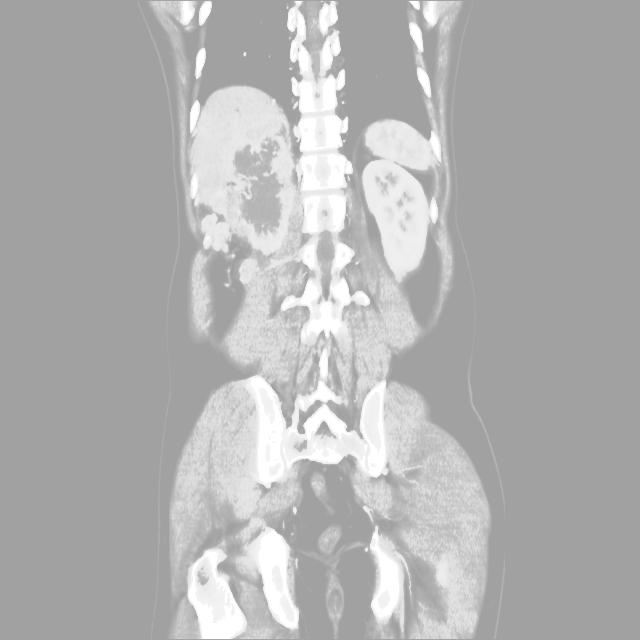TUMOR: (135, 84, 473, 390)
